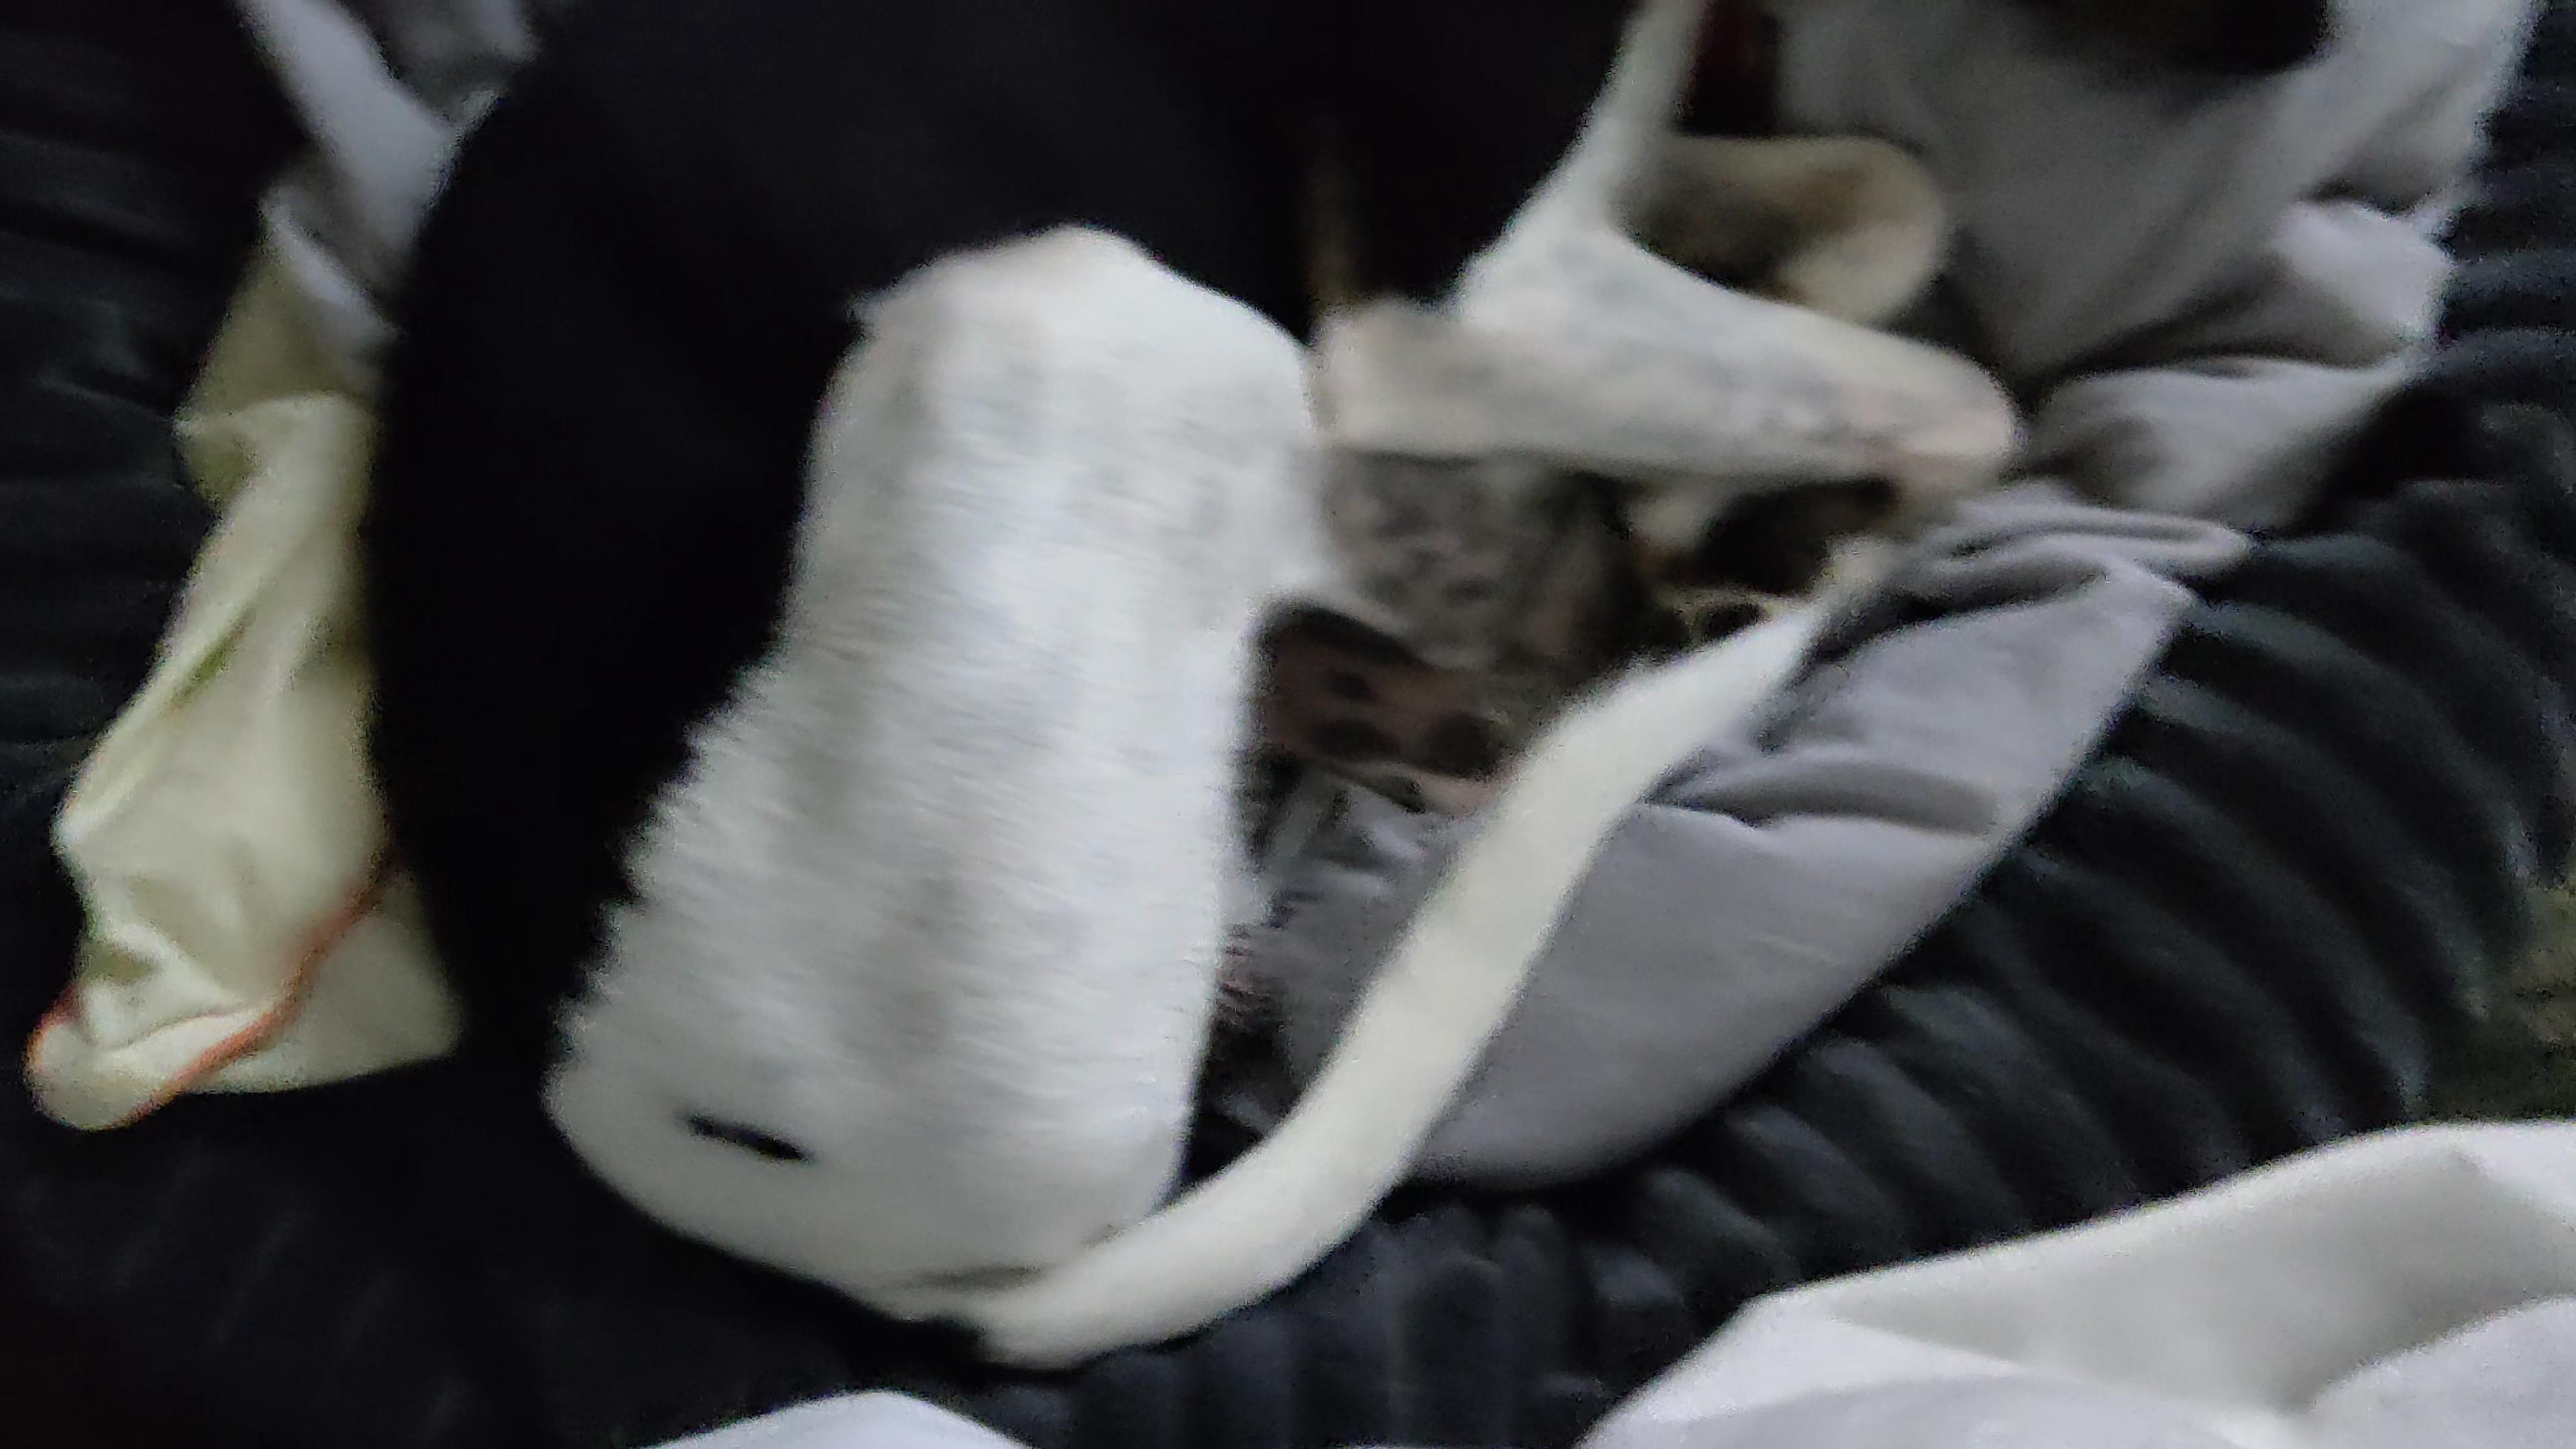Dog: (331, 0, 2373, 1396)
